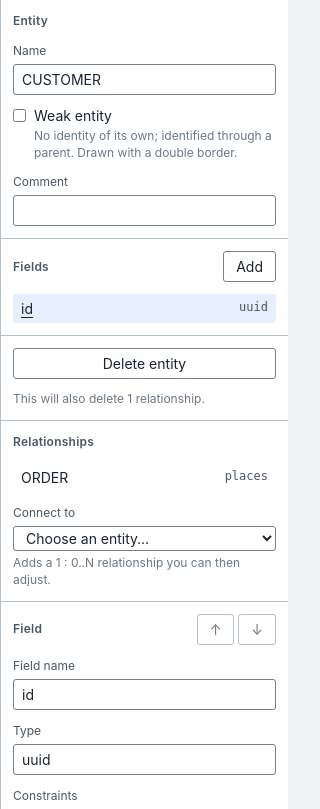
field constraints › edits the data type
Replace the text in the field labelled "Type" with "bigint" at (144, 759), box [13,744,276,775]
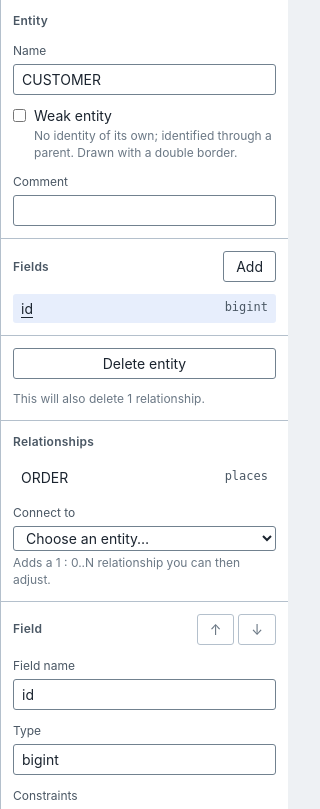
Now the text "bigint" is shown, box [225,298,268,316]
